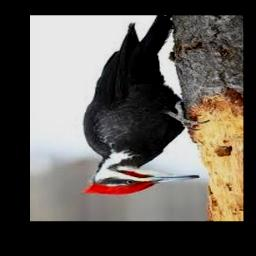Woodpecker: (84, 16, 209, 195)
